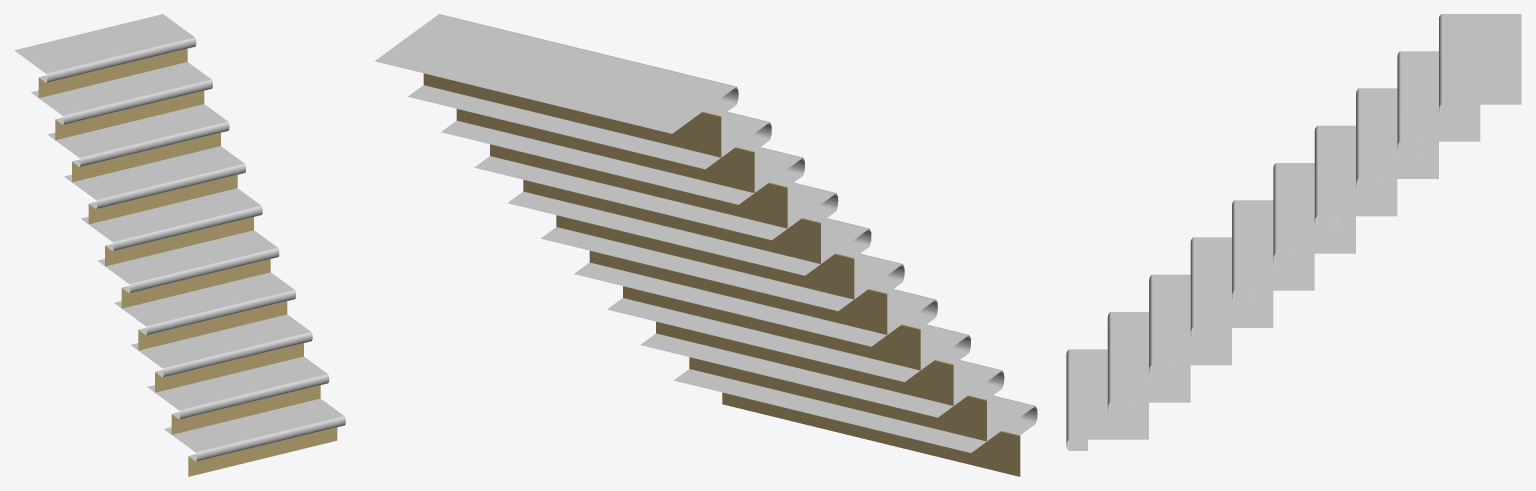
The model's file is InteriorStairs.fbx.
The picture shows the model from 3 angles, left to right: view 1: azimuth 30°, elevation 25°; view 2: azimuth 150°, elevation 25°; view 3: azimuth 270°, elevation 25°; orthographic projection. The views are drawn at different scales.
Visible parts, largest first — view 1: Stairs_LOD0; view 2: Stairs_LOD0; view 3: Stairs_LOD0.
Part boxes in pixels (x1,y1,x2,y2): Stairs_LOD0: [14, 14, 345, 476]; Stairs_LOD0: [375, 14, 1037, 476]; Stairs_LOD0: [1066, 14, 1521, 450].
Size of what is drawn, in the model's own units: 248 by 475 by 526.
